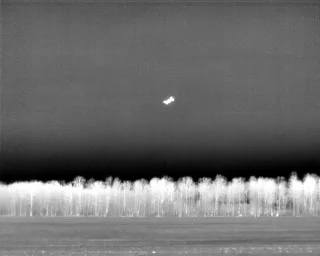DRONE: (159, 92, 178, 109)
